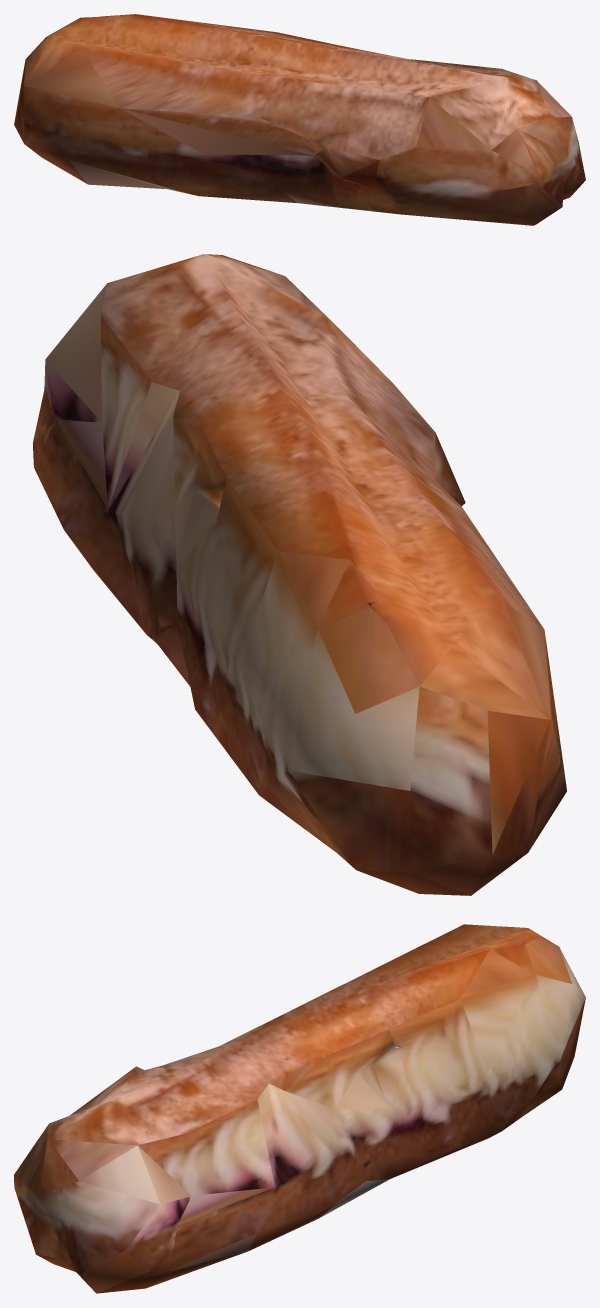
The model's file is eclaire_290.obj.
3 renders of one model, top to bottom at view 1: azimuth 30°, elevation 25°; view 2: azimuth 150°, elevation 25°; view 3: azimuth 270°, elevation 25°, orthographic. The views are drawn at different scales.
Size of the model in its own units: 93.94 by 31.45 by 91.44.
1 material, 1 textured.
